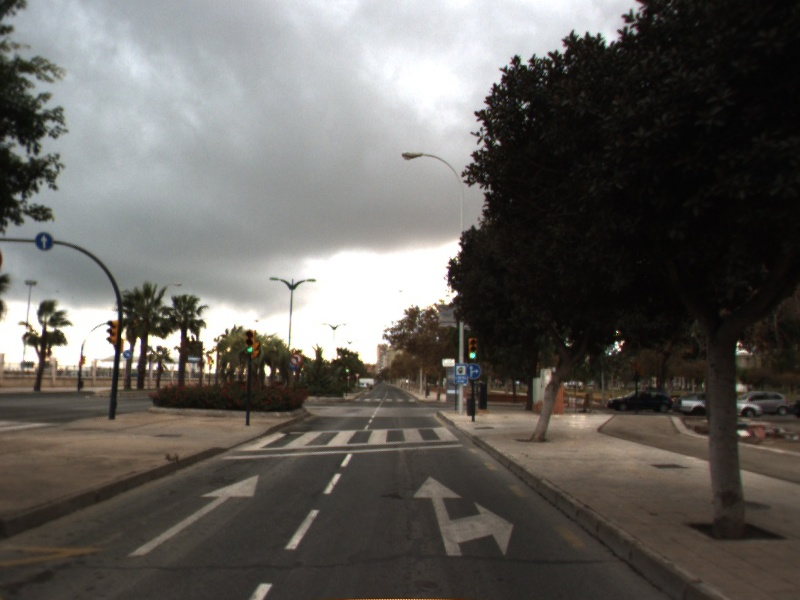STRAIGHT: (127, 472, 261, 559)
STRAIGHT_RIGHT: (410, 473, 518, 561)
